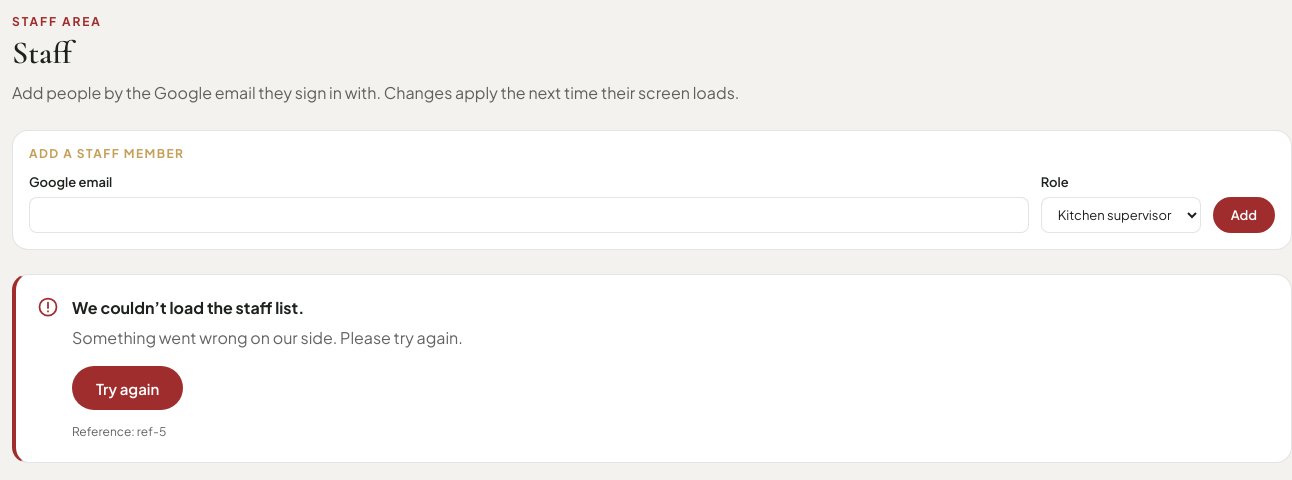
Test: AdminStaffView › shows an error with a retry when the list cannot load
Check: the message shows "We couldn’t load the staff list.", box [72,297,304,318]
Step 1. Click the button "Try again" → (128, 388), box [72,366,183,410]
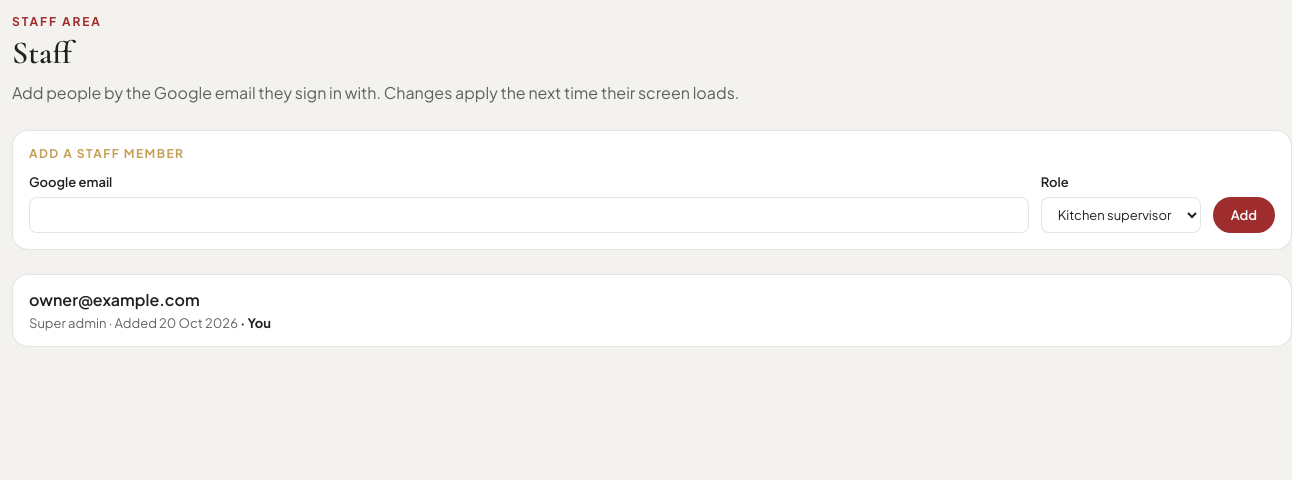
Check: the number of list items with test id "staff" is 1, box [29,289,271,331]
